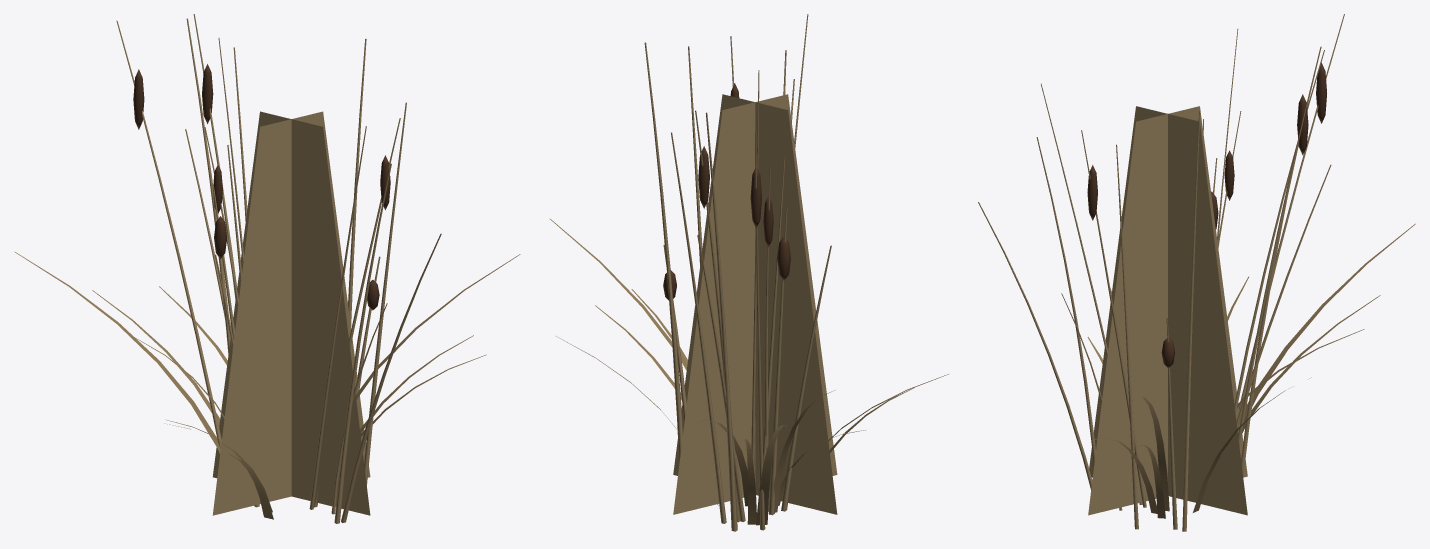
File: reed_clump_0.glb
The picture shows the model from 3 angles, left to right: view 1: azimuth 30°, elevation 25°; view 2: azimuth 150°, elevation 25°; view 3: azimuth 270°, elevation 25°; orthographic projection. The views are drawn at different scales.
Visible parts, largest first — view 1: ReedClump_Far, ReedClump_Stalks_2, ReedClump_Stalks_0, ReedClump_Stalks_1, ReedClump_Blades_2, ReedClump_Blades_0, ReedClump_Heads_2, ReedClump_Heads_0, ReedClump_Heads_1, ReedClump_Blades_1; view 2: ReedClump_Far, ReedClump_Stalks_1, ReedClump_Stalks_0, ReedClump_Stalks_2, ReedClump_Blades_0, ReedClump_Blades_1, ReedClump_Blades_2, ReedClump_Heads_1, ReedClump_Heads_0, ReedClump_Heads_2; view 3: ReedClump_Far, ReedClump_Stalks_2, ReedClump_Stalks_0, ReedClump_Stalks_1, ReedClump_Blades_1, ReedClump_Blades_0, ReedClump_Heads_2, ReedClump_Blades_2, ReedClump_Heads_0, ReedClump_Heads_1.
Part boxes in pixels (x1=…): ReedClump_Far: x1=212, y1=111, x2=370, y2=515; ReedClump_Stalks_2: x1=116, y1=20, x2=400, y2=523; ReedClump_Stalks_0: x1=185, y1=14, x2=441, y2=522; ReedClump_Stalks_1: x1=204, y1=47, x2=406, y2=507; ReedClump_Blades_2: x1=14, y1=251, x2=273, y2=519; ReedClump_Blades_0: x1=92, y1=254, x2=520, y2=512; ReedClump_Heads_2: x1=133, y1=69, x2=390, y2=210; ReedClump_Heads_0: x1=202, y1=64, x2=379, y2=310; ReedClump_Heads_1: x1=213, y1=165, x2=227, y2=258; ReedClump_Blades_1: x1=134, y1=335, x2=486, y2=436; ReedClump_Far: x1=673, y1=94, x2=837, y2=514; ReedClump_Stalks_1: x1=671, y1=46, x2=831, y2=523; ReedClump_Stalks_0: x1=663, y1=70, x2=794, y2=531; ReedClump_Stalks_2: x1=644, y1=14, x2=808, y2=530; ReedClump_Blades_0: x1=549, y1=218, x2=948, y2=524; ReedClump_Blades_1: x1=556, y1=289, x2=834, y2=512; ReedClump_Blades_2: x1=756, y1=387, x2=914, y2=525; ReedClump_Heads_1: x1=763, y1=196, x2=790, y2=280; ReedClump_Heads_0: x1=663, y1=146, x2=709, y2=300; ReedClump_Heads_2: x1=730, y1=83, x2=761, y2=228; ReedClump_Far: x1=1088, y1=106, x2=1247, y2=515; ReedClump_Stalks_2: x1=1036, y1=14, x2=1344, y2=531; ReedClump_Stalks_0: x1=978, y1=29, x2=1331, y2=529; ReedClump_Stalks_1: x1=1116, y1=101, x2=1307, y2=529; ReedClump_Blades_1: x1=1091, y1=276, x2=1311, y2=518; ReedClump_Blades_0: x1=1110, y1=288, x2=1380, y2=511; ReedClump_Heads_2: x1=1087, y1=62, x2=1326, y2=220; ReedClump_Blades_2: x1=1087, y1=223, x2=1415, y2=420; ReedClump_Heads_0: x1=1161, y1=94, x2=1308, y2=368; ReedClump_Heads_1: x1=1211, y1=150, x2=1234, y2=228.
Size of what is drawn, in the model's own units: 1.64 by 1.9 by 1.66.
